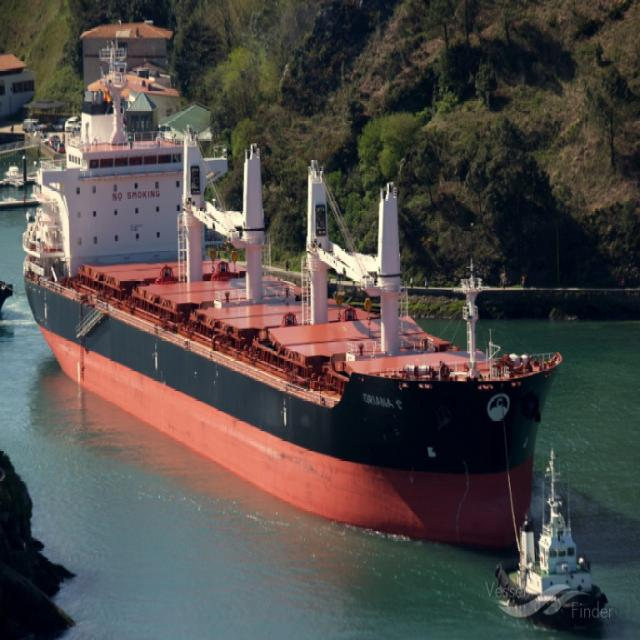OCR: (358, 380, 402, 414)
